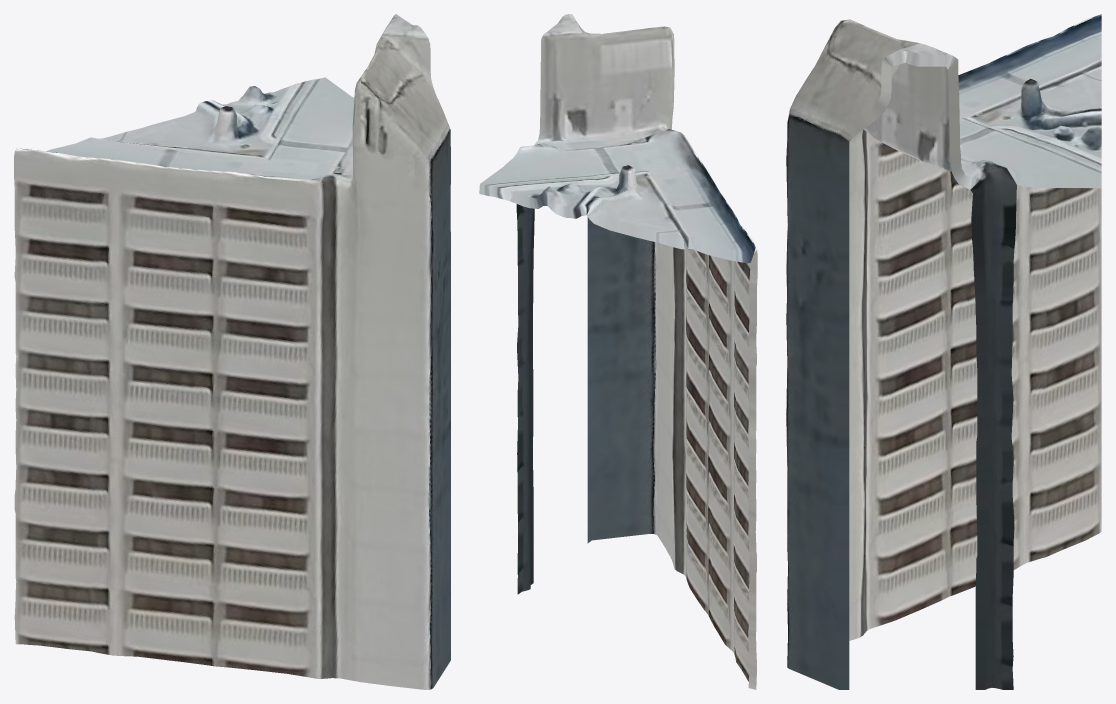
Rendered from z20-167786-405224-h1-yup-uvflip-v3-world.glb.
3 renders of one model, left to right at view 1: azimuth 30°, elevation 25°; view 2: azimuth 150°, elevation 25°; view 3: azimuth 270°, elevation 25°, orthographic. The views are drawn at different scales.
Size of the model in its own units: 17.44 by 32.64 by 14.6.
Materials: 1 (1 with a texture image).
